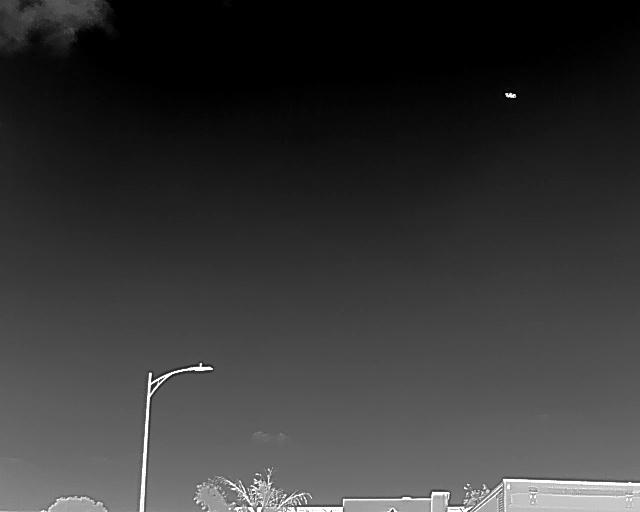fpv-drone: (504, 91, 516, 99)
